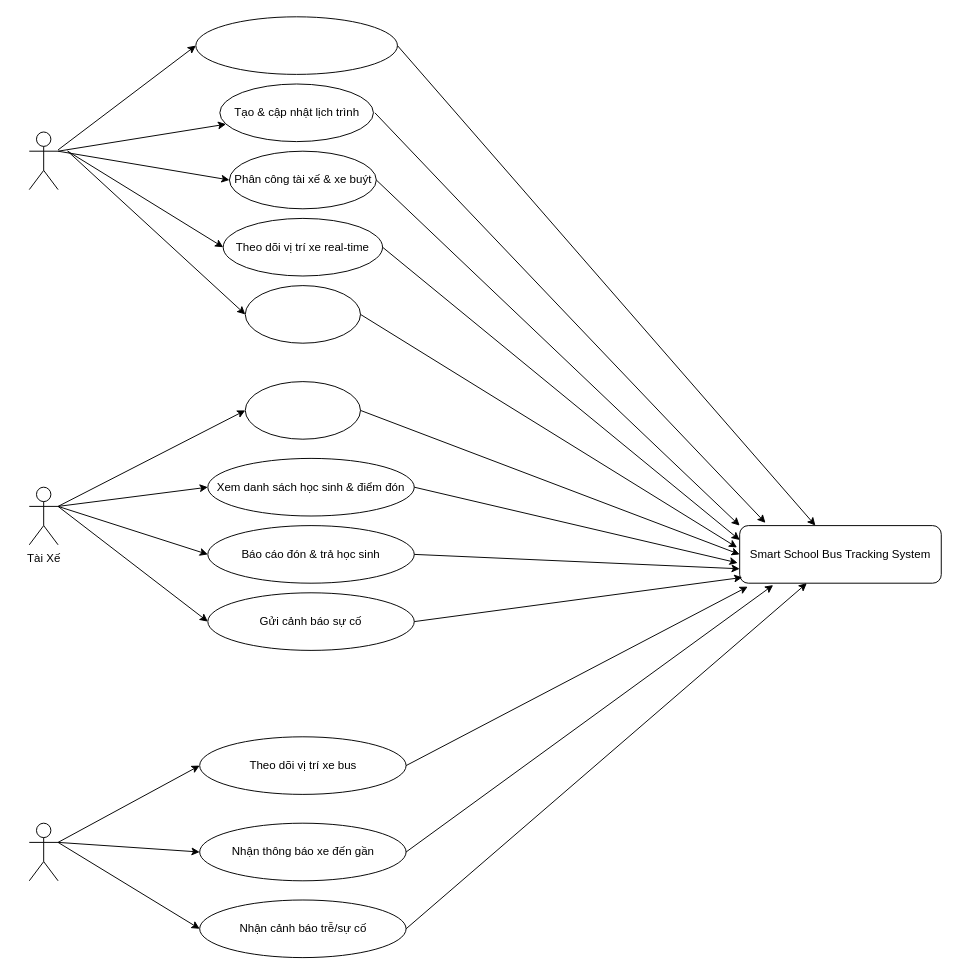
Image size: 958x974. Some labels were removed from this diagram. Each missing label, with the centre of its shape:
"Gửi tin nhắn" belongs at point 302,314.
"Phụ huynh" belongs at point 43,851.
"Quản lý" belongs at point 43,160.
"Xem danh sách HS/Tài xế/Xe/Tuyến" belongs at point 296,45.
"Xem lịch làm việc" belongs at point 302,410.
